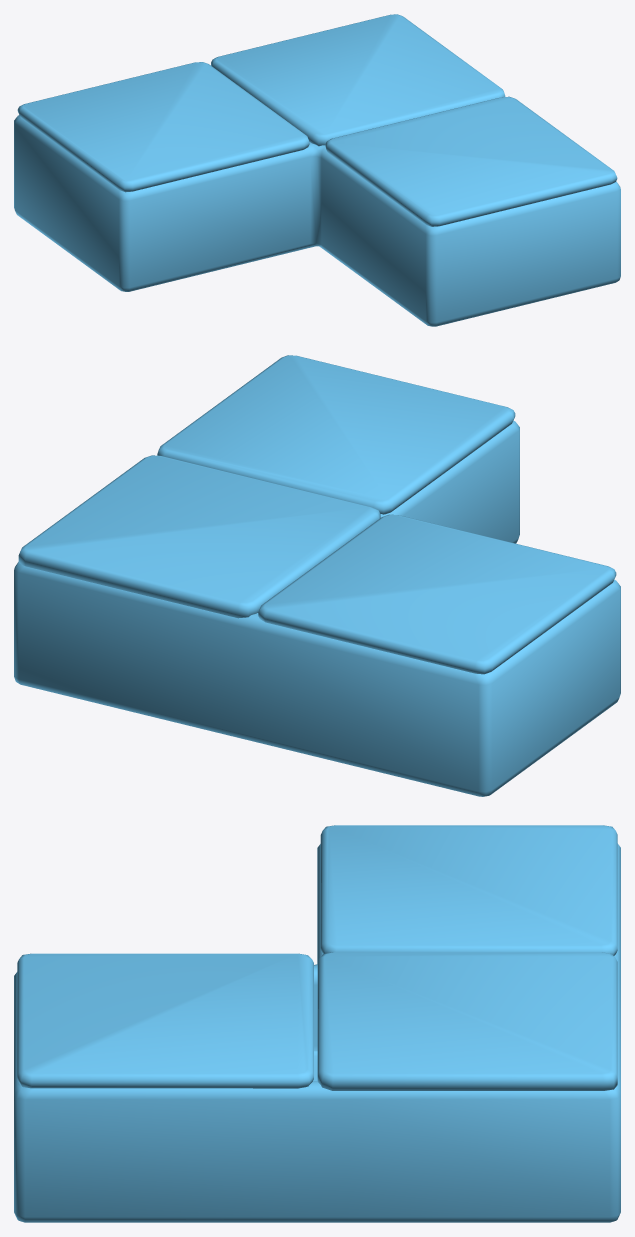
File: Block-L-Blue.fbx
3 views of the same model, one above another, from view 1: azimuth 30°, elevation 25°; view 2: azimuth 150°, elevation 25°; view 3: azimuth 270°, elevation 25° (orthographic). The views are drawn at different scales.
Visible parts, largest first — view 1: Cube.035, Block-L-Blue; view 2: Cube.035, Block-L-Blue; view 3: Cube.035, Block-L-Blue.
Boxes of the visible parts, <box> form: Cube.035: <box>17,14,617,226</box>; Block-L-Blue: <box>14,115,620,326</box>; Cube.035: <box>18,355,616,674</box>; Block-L-Blue: <box>14,420,620,796</box>; Cube.035: <box>17,825,617,1090</box>; Block-L-Blue: <box>14,843,620,1222</box>.
Size of the model in its own units: 200 by 54.25 by 200.
